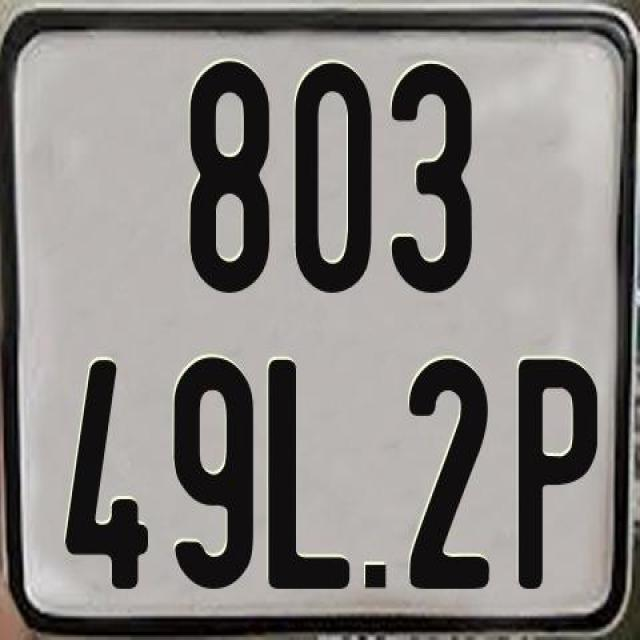0: (294, 59, 378, 298)
2: (406, 353, 489, 588)
3: (390, 61, 474, 292)
4: (64, 360, 151, 595)
8: (185, 58, 271, 290)
9: (174, 352, 254, 584)
L: (268, 361, 358, 594)
P: (517, 353, 603, 592)
